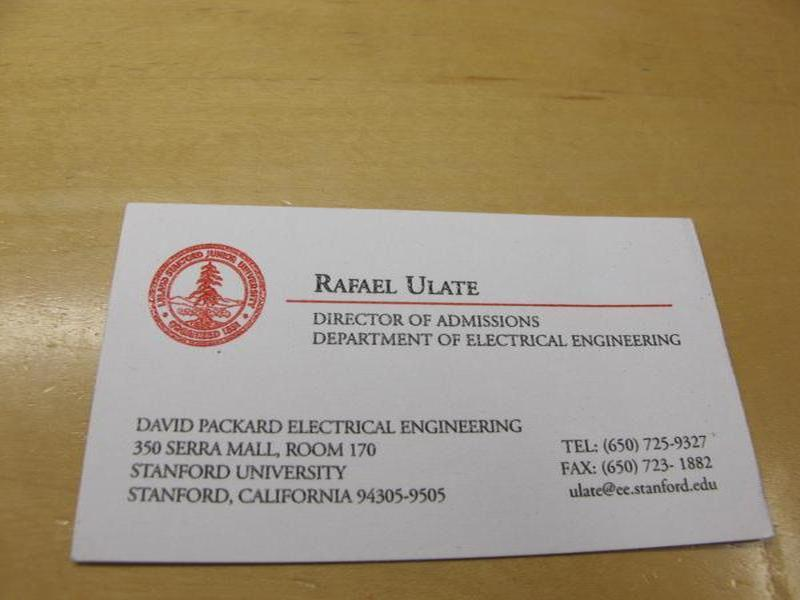card: (72, 197, 777, 578)
